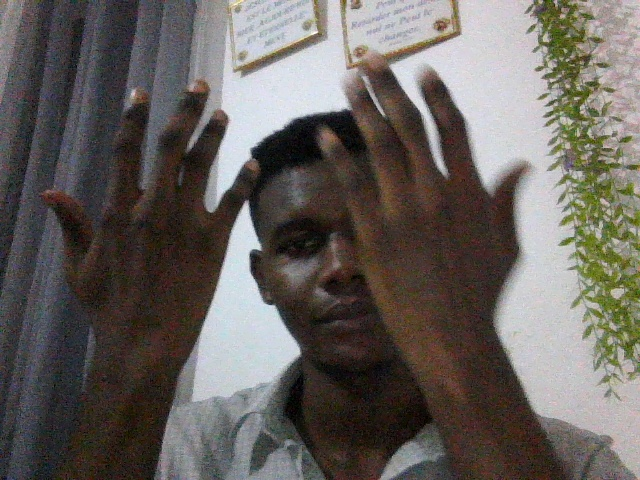hand: (305, 49, 545, 378)
